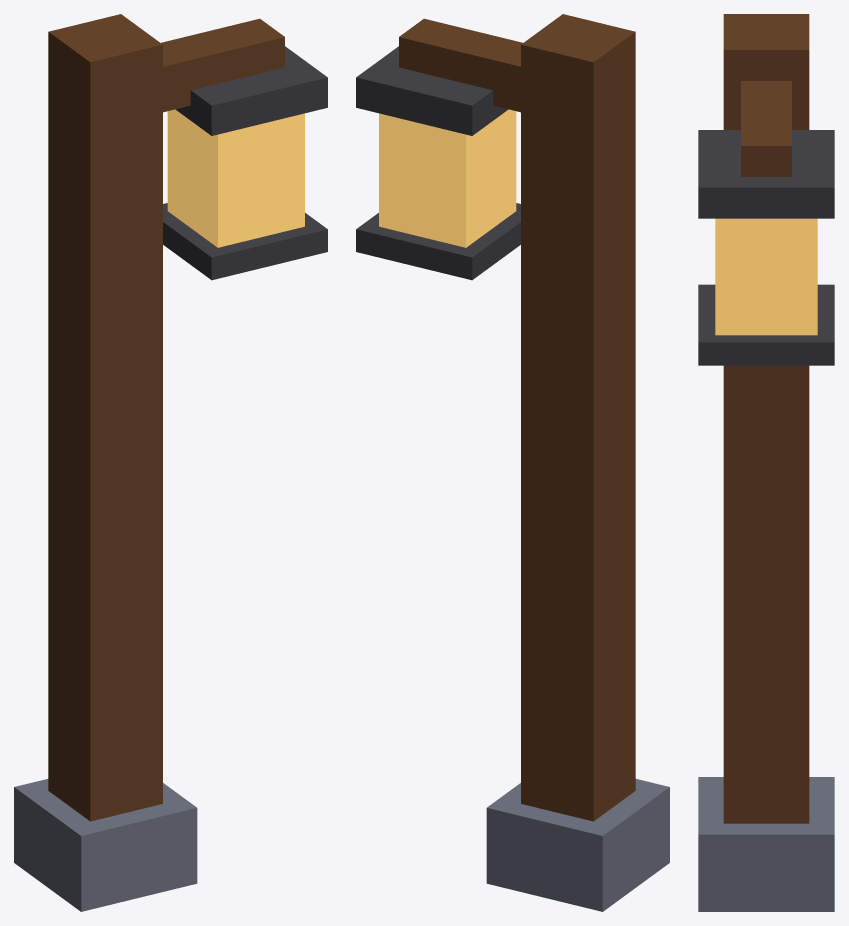
Rendered from LampPost.glb.
3 renders of one model, left to right at view 1: azimuth 30°, elevation 25°; view 2: azimuth 150°, elevation 25°; view 3: azimuth 270°, elevation 25°, orthographic.
Parts seen in each view (by area): view 1: LampPost; view 2: LampPost; view 3: LampPost.
Part boxes in pixels (x1,y1,x2,y2): LampPost: (14,14,327,911); LampPost: (356,14,669,911); LampPost: (698,14,834,911).
Size of the model in its own units: 3.4 by 11 by 1.6.
Materials: 2 (2 with a texture image).
